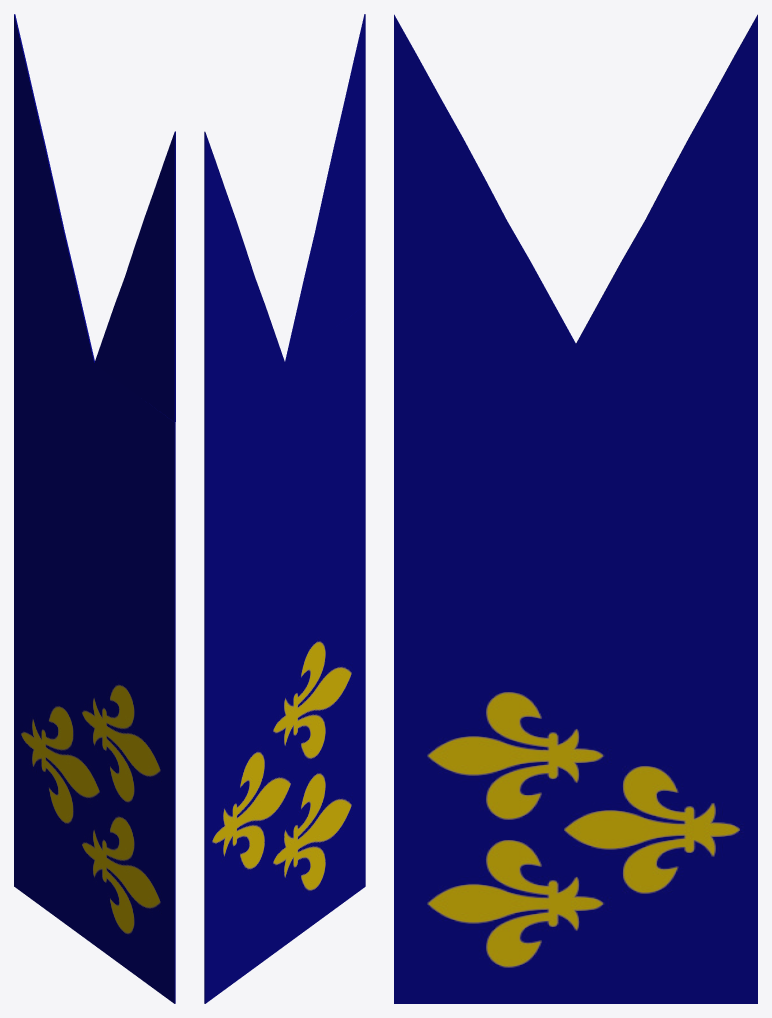
The model's file is flag.fbx.
3 views of the same model, side by side, from view 1: azimuth 30°, elevation 25°; view 2: azimuth 150°, elevation 25°; view 3: azimuth 270°, elevation 25° (orthographic). The views are drawn at different scales.
Visible parts, largest first — view 1: Cube; view 2: Cube; view 3: Cube.
Boxes of the visible parts, left/top/right/bottom form: Cube: left=14, top=14, right=175, bottom=1003; Cube: left=204, top=14, right=365, bottom=1003; Cube: left=394, top=14, right=757, bottom=1003.
Size of the model in its own units: 0.2661 by 150 by 50.01.
